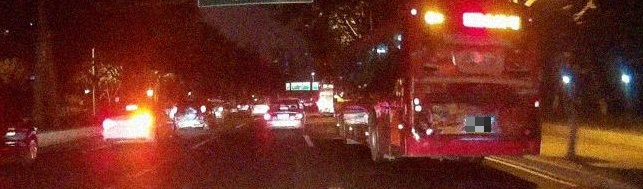L_light: (412, 93, 432, 136), (103, 121, 115, 128), (264, 115, 271, 120), (173, 108, 177, 114)
R_light: (523, 94, 540, 137), (138, 119, 152, 126), (294, 114, 302, 119), (201, 106, 206, 113)
T_light: (466, 37, 492, 44), (126, 105, 137, 110), (280, 107, 288, 110), (186, 99, 193, 101)
night-brake: (264, 98, 303, 133)
night-no: (406, 0, 541, 167), (172, 97, 208, 131)
night-right: (102, 100, 153, 149)
plate_1: (466, 117, 491, 132)
